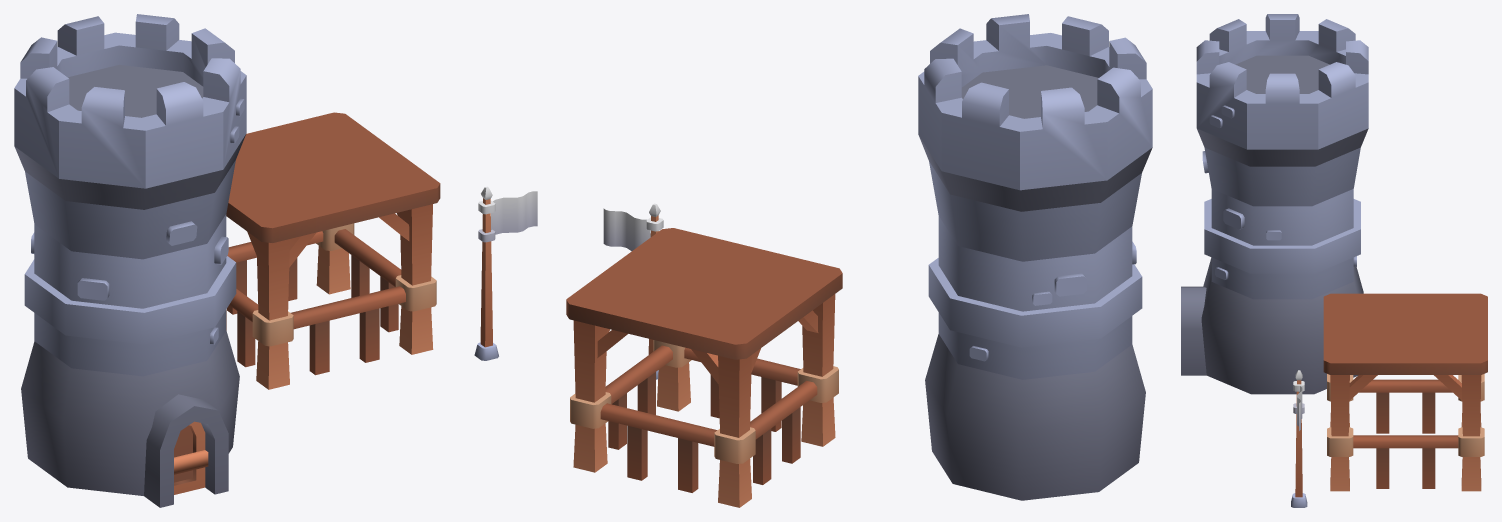
File: london_battle_1.glb
3 views of the same model, side by side, from view 1: azimuth 30°, elevation 25°; view 2: azimuth 150°, elevation 25°; view 3: azimuth 270°, elevation 25° (orthographic). The views are drawn at different scales.
Visible parts, largest first — view 1: tower-complete-small, structure-fence-sides, Group, flag-high; view 2: tower-complete-small, structure-fence-sides, Group, flag-high; view 3: tower-complete-small, structure-fence-sides, flag-high.
Part boxes in pixels (x1,y1,x2,y2): tower-complete-small: [14, 14, 246, 507]; structure-fence-sides: [226, 112, 440, 389]; Group: [227, 231, 405, 375]; flag-high: [474, 186, 537, 360]; tower-complete-small: [918, 14, 1152, 500]; structure-fence-sides: [566, 228, 842, 507]; Group: [600, 347, 800, 492]; flag-high: [603, 203, 663, 379]; tower-complete-small: [1181, 14, 1368, 394]; structure-fence-sides: [1323, 293, 1487, 491]; flag-high: [1291, 370, 1307, 507].
Size of the model in its own units: 11.43 by 8.48 by 7.48.
Materials: 3 (3 with a texture image).
